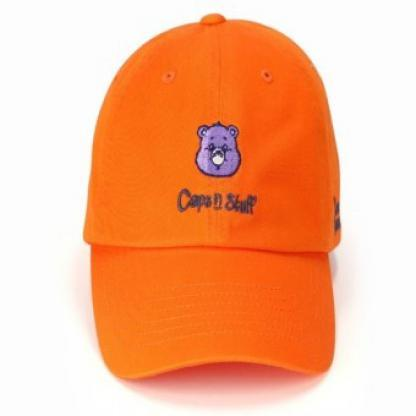cap: (73, 3, 355, 390)
